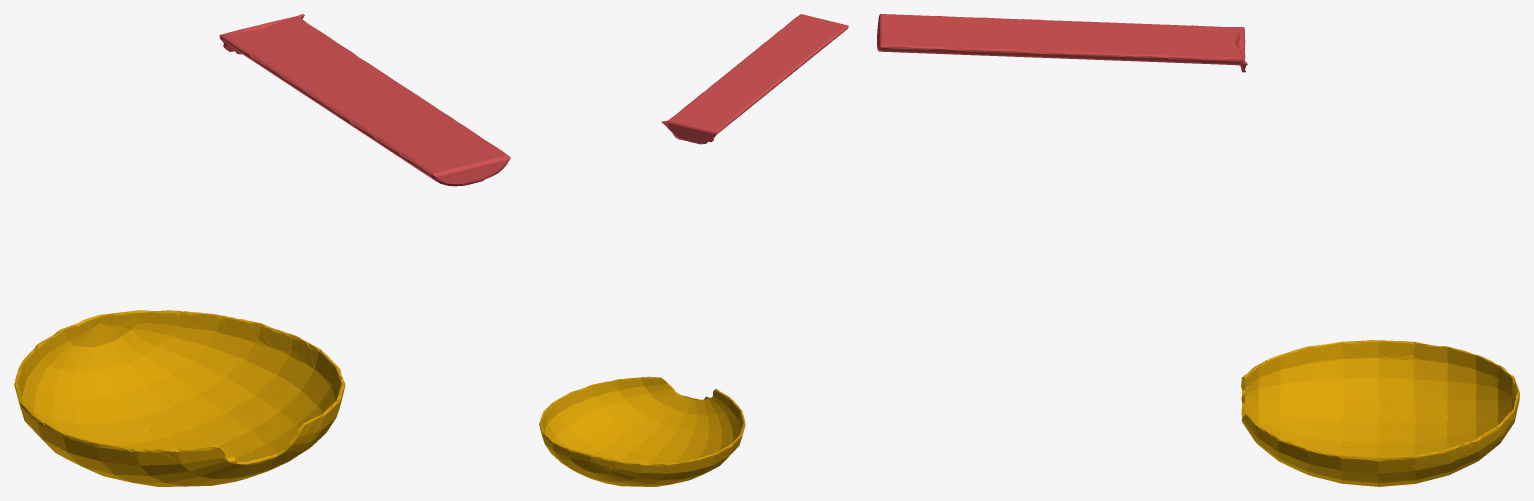
File: mode_1_2pcs_transformed.glb
3 views of the same model, side by side, from view 1: azimuth 30°, elevation 25°; view 2: azimuth 150°, elevation 25°; view 3: azimuth 270°, elevation 25° (orthographic). The views are drawn at different scales.
Parts seen in each view (by area): view 1: piece_0.obj, piece_1.obj; view 2: piece_0.obj, piece_1.obj; view 3: piece_0.obj, piece_1.obj.
Part boxes in pixels (<box>): piece_0.obj: <box>14,310,345,486</box>; piece_1.obj: <box>219,14,510,186</box>; piece_0.obj: <box>539,376,745,486</box>; piece_1.obj: <box>661,14,848,144</box>; piece_0.obj: <box>1241,340,1519,486</box>; piece_1.obj: <box>877,14,1247,72</box>.
Size of the model in its own units: 0.4374 by 0.7453 by 1.
